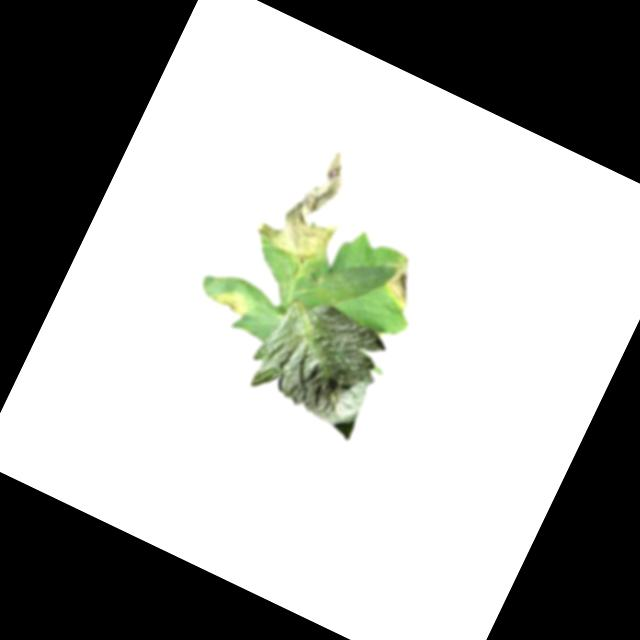Late_blight: (250, 130, 369, 271), (374, 251, 427, 310), (207, 279, 258, 325)
healthy: (237, 284, 398, 441)
